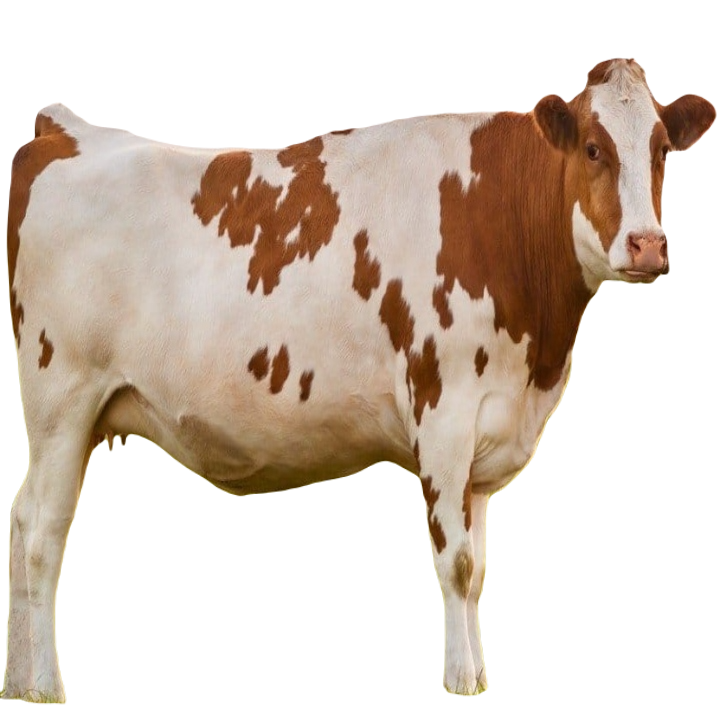Cow: (2, 54, 716, 715)
